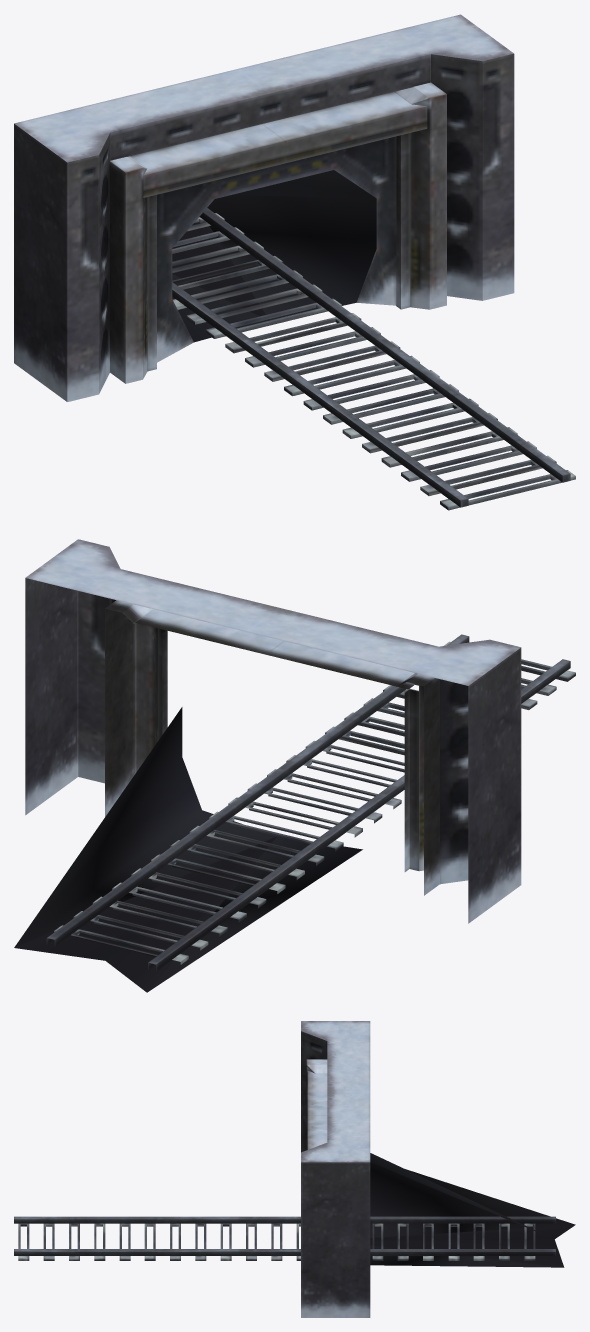
Rendered from yw_wanglingzhita_tiedao03.FBX.
3 renders of one model, top to bottom at view 1: azimuth 30°, elevation 25°; view 2: azimuth 150°, elevation 25°; view 3: azimuth 270°, elevation 25°, orthographic. The views are drawn at different scales.
Parts seen in each view (by area): view 1: yw_wanglingzhita_tiedao03; view 2: yw_wanglingzhita_tiedao03; view 3: yw_wanglingzhita_tiedao03.
Part boxes in pixels (x1,y1,x2,y2): yw_wanglingzhita_tiedao03: [14, 14, 575, 510]; yw_wanglingzhita_tiedao03: [14, 539, 575, 992]; yw_wanglingzhita_tiedao03: [14, 1021, 575, 1317].
Size of the model in its own units: 819 by 420 by 1376.
Materials: 1 (1 with a texture image).
